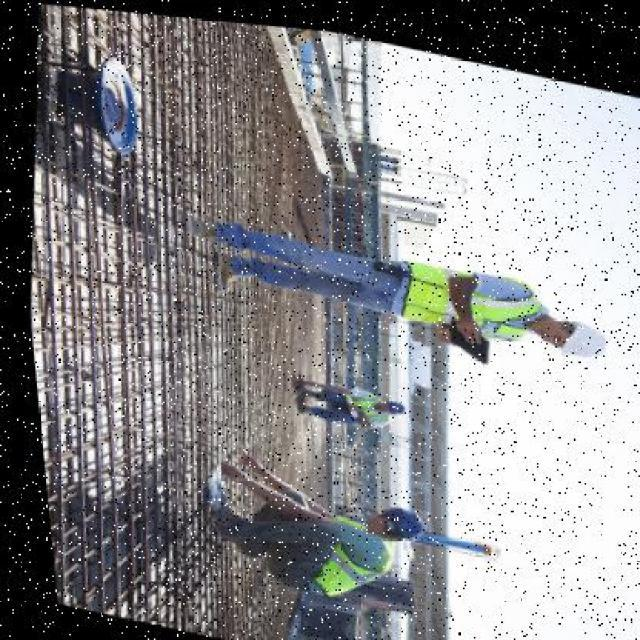helmet: (375, 489, 409, 537), (552, 309, 594, 347)
vest: (395, 257, 539, 335), (294, 520, 384, 600)
